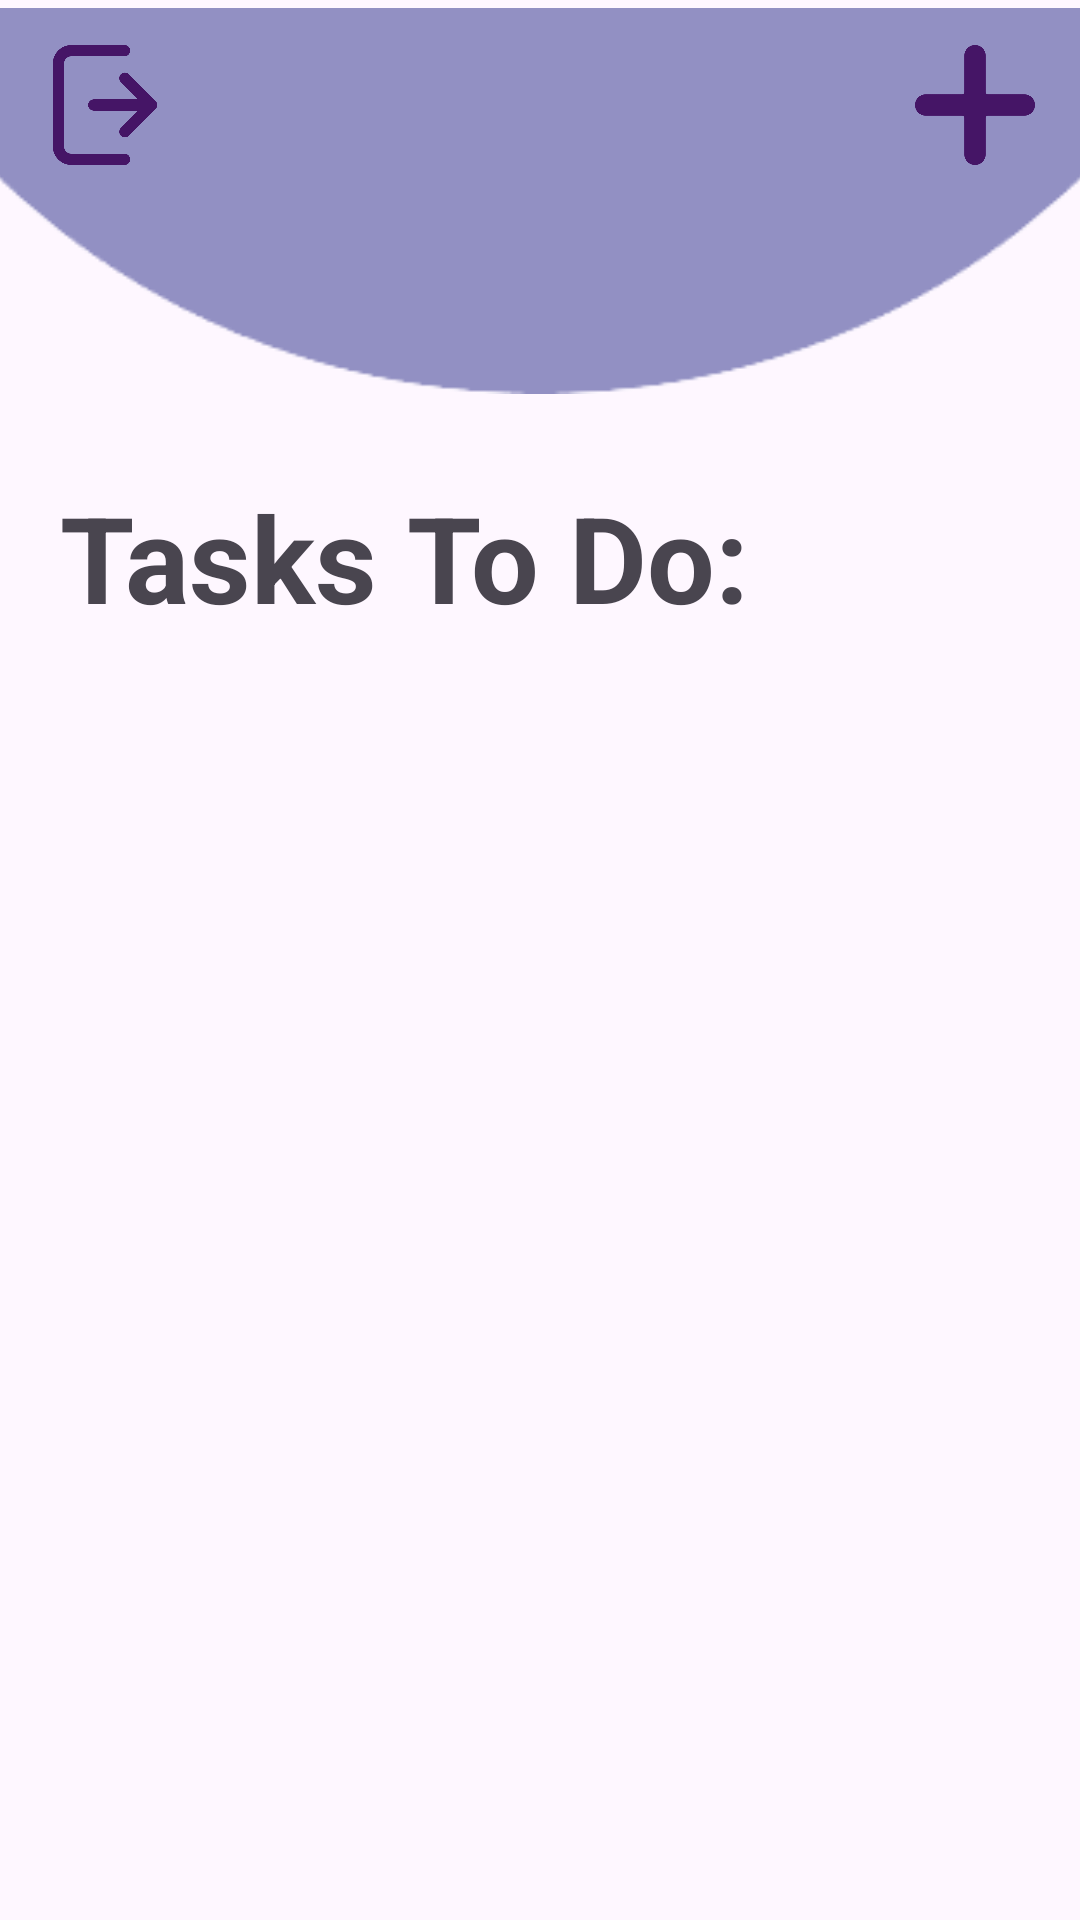

Point at icon controls on the screen. Image size 1080 x 1920, points as [x,y].
add: [975,105]
